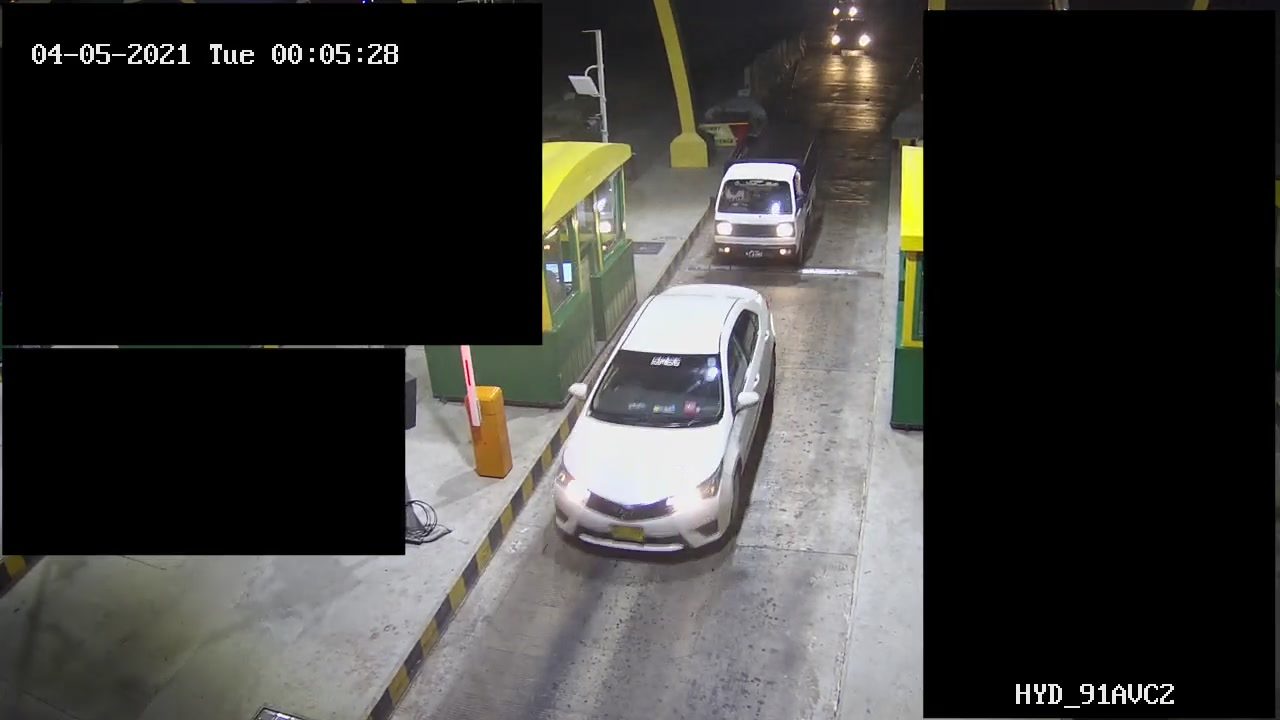F1: (536, 282, 790, 572), (698, 133, 830, 274)
